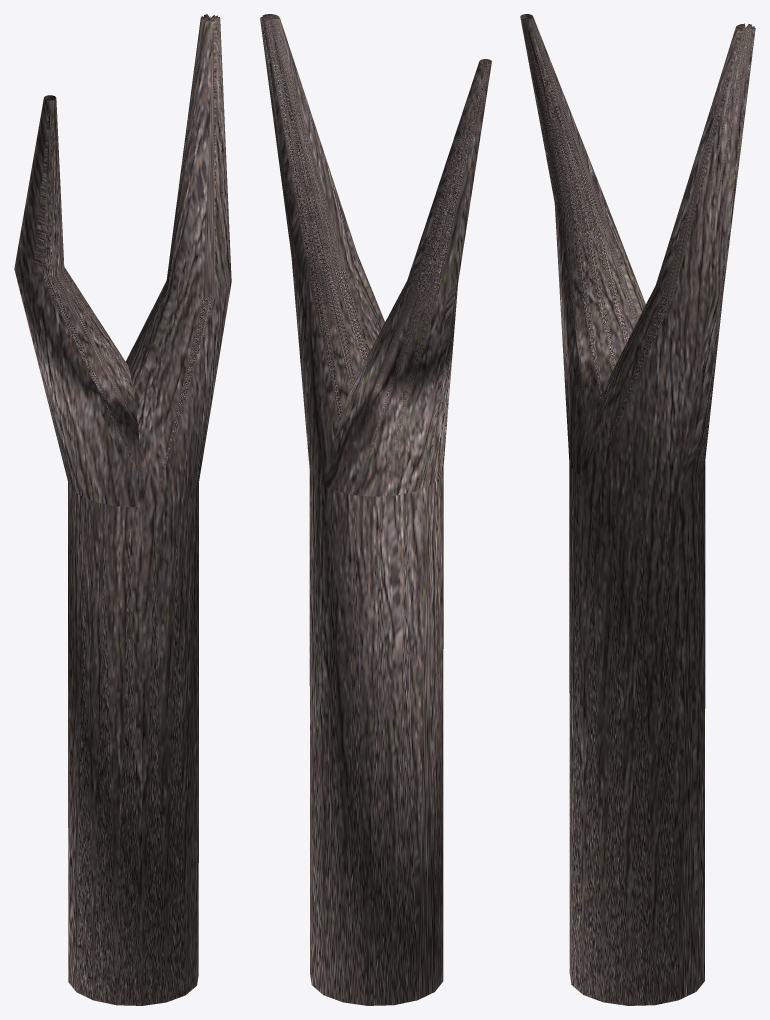
Rendered from tree2.obj.
3 renders of one model, left to right at view 1: azimuth 30°, elevation 25°; view 2: azimuth 150°, elevation 25°; view 3: azimuth 330°, elevation 25°, orthographic. The views are drawn at different scales.
Visible parts, largest first — view 1: Cylinder; view 2: Cylinder; view 3: Cylinder.
Boxes of the visible parts, x1,y1,x2,y2 form: Cylinder: [14, 14, 231, 1005]; Cylinder: [260, 14, 491, 1005]; Cylinder: [520, 14, 755, 1005].
Bounding box in the file's own units: 3.5 × 15.57 × 2.
